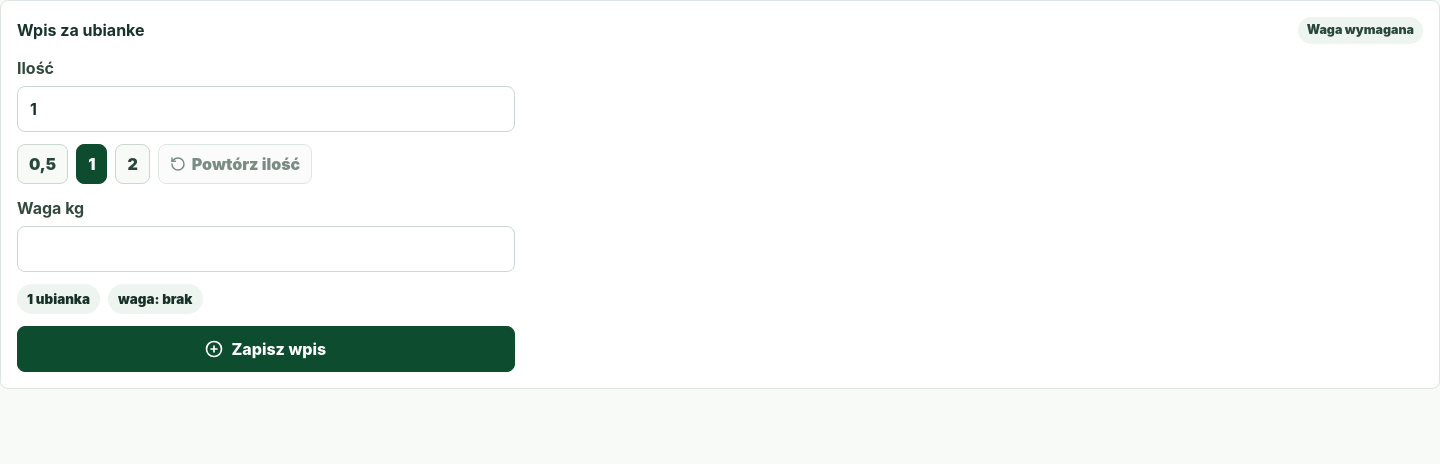
Test: UbiankaEntryForm › requires weight when the plan requires weight
Click the button "Zapisz wpis" at (266, 349), box [17,326,514,372]
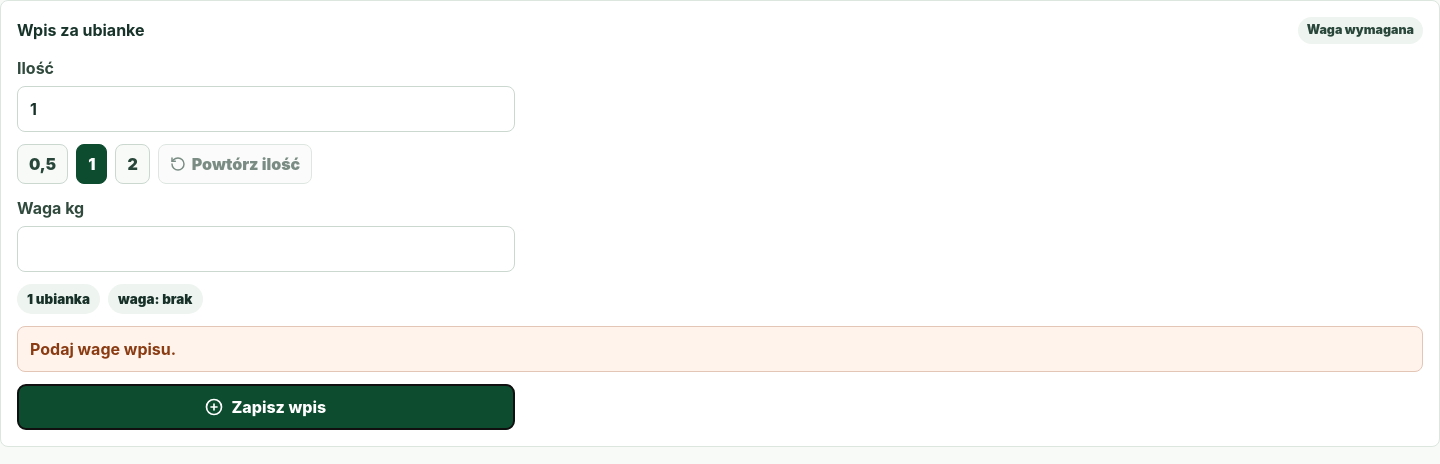
Expected: the text "Podaj wage wpisu." is shown, [17,326,1423,372]
